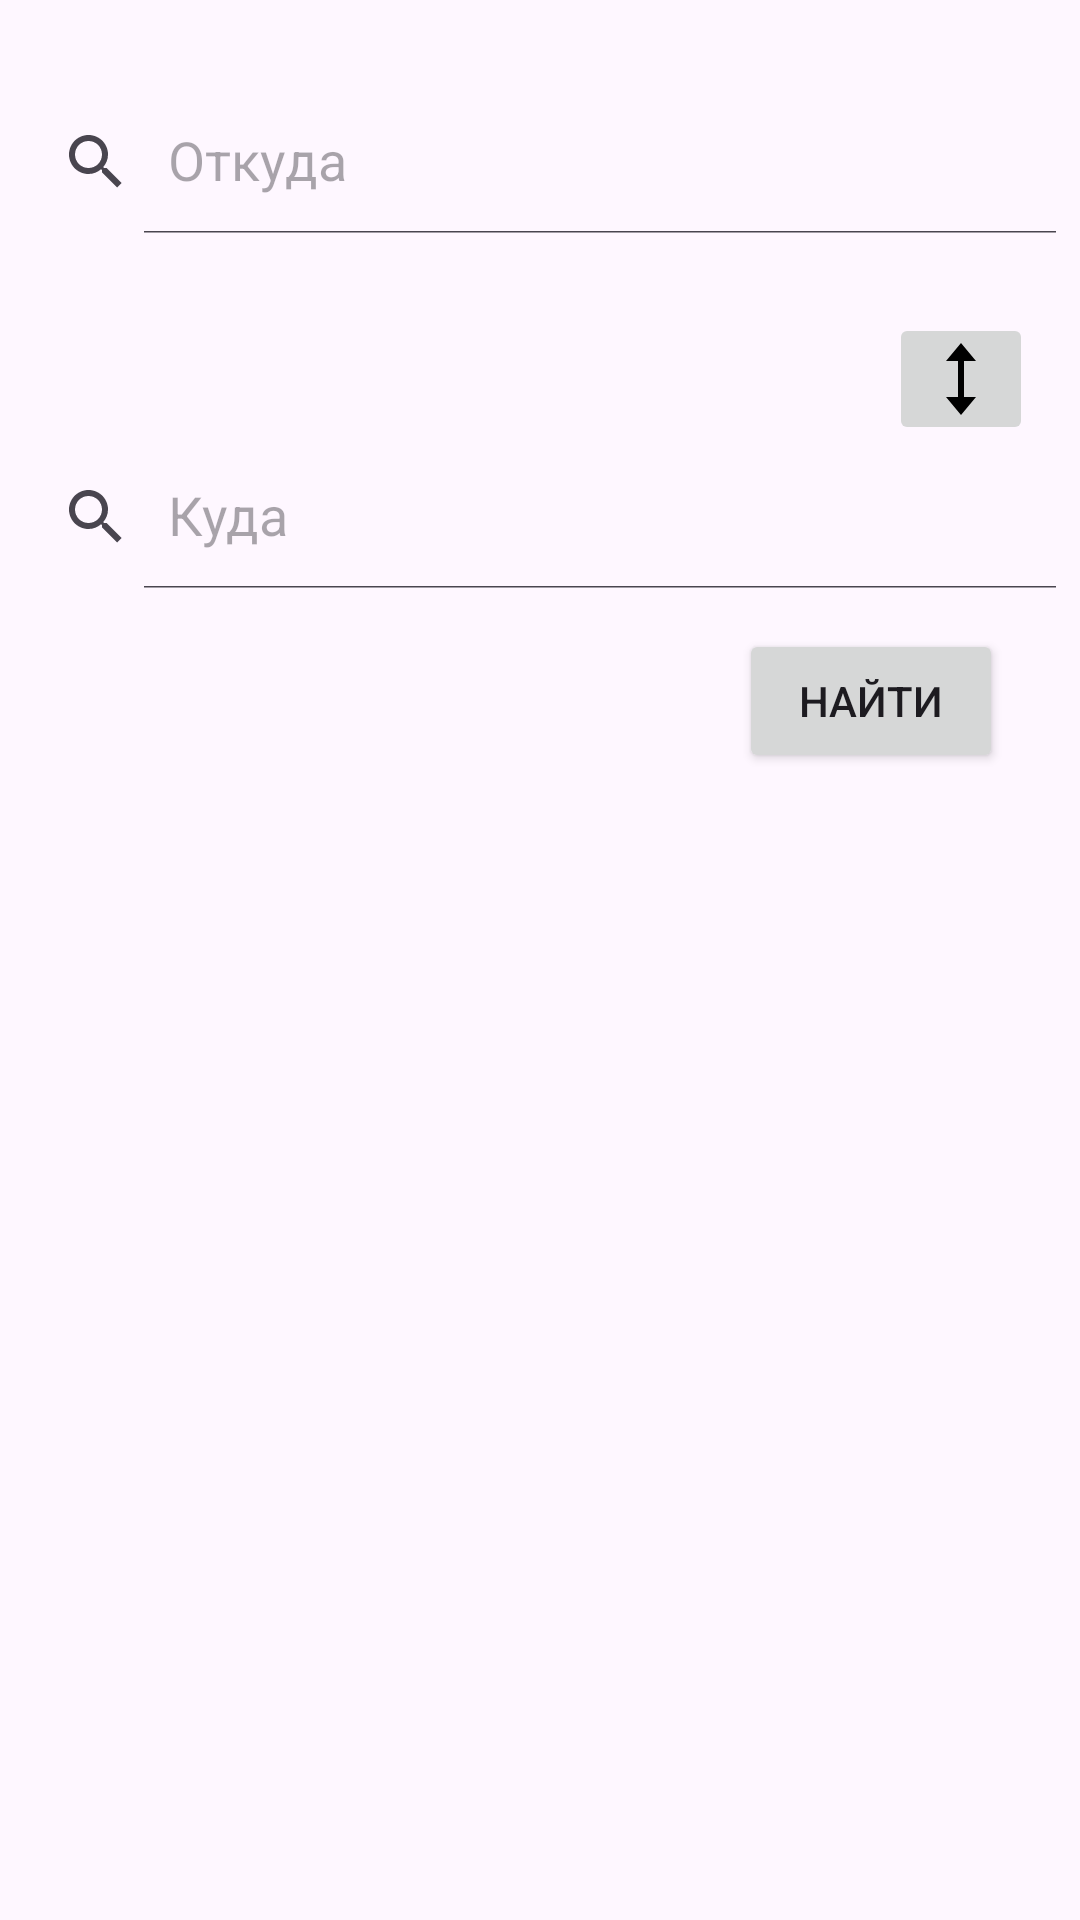

Icons on this 1080px×1920px Android screen, each with the point to tap as (x=x, y=y):
top bottom arrow: (x=961, y=379)
